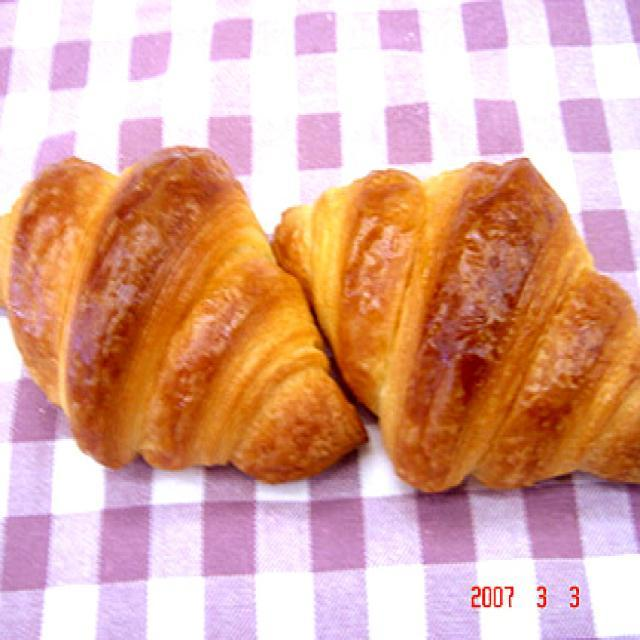Croissant: (0, 136, 374, 481), (278, 142, 640, 496)
